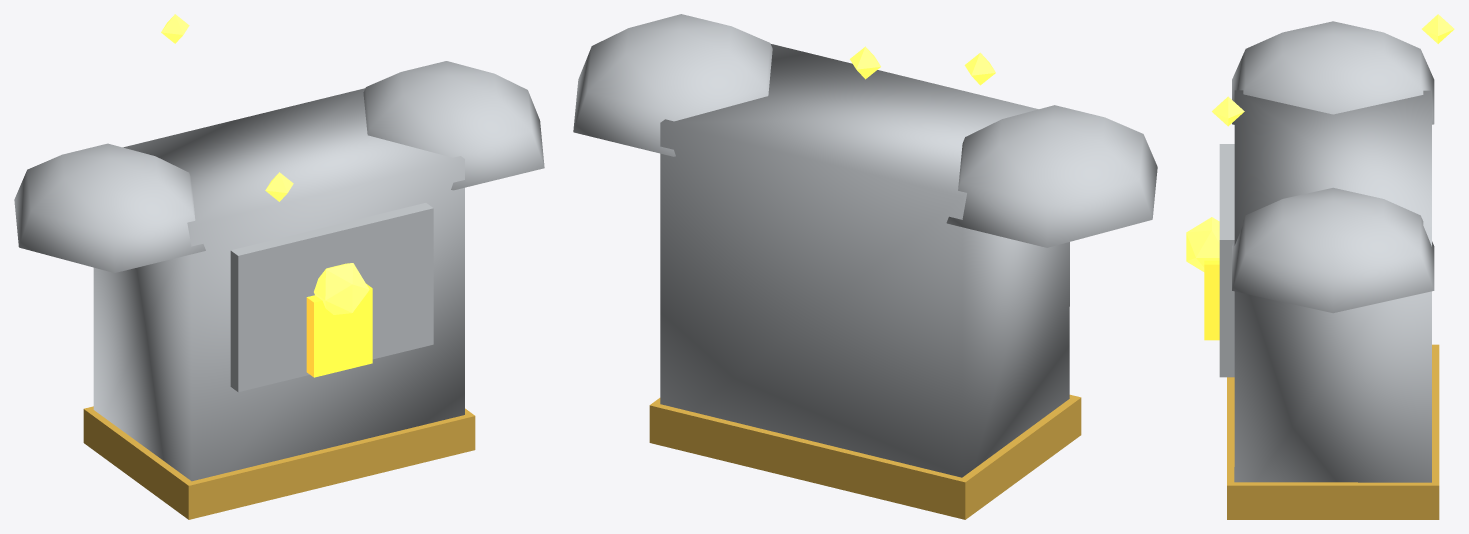
File: legend_armor_lantern.glb
3 renders of one model, left to right at view 1: azimuth 30°, elevation 25°; view 2: azimuth 150°, elevation 25°; view 3: azimuth 270°, elevation 25°, orthographic. The views are drawn at different scales.
Parts seen in each view (by area): view 1: item_metal3, item_trim3, item_legendGlow, item_gem3, item_legendSpark; view 2: item_metal3, item_trim3, item_legendSpark; view 3: item_metal3, item_trim3, item_gem3, item_legendGlow, item_legendSpark.
Part boxes in pixels (x1,y1,x2,y2): item_metal3: (14, 61, 544, 481); item_trim3: (83, 406, 475, 519); item_legendGlow: (306, 283, 372, 377); item_gem3: (314, 263, 369, 314); item_legendSpark: (161, 14, 293, 201); item_metal3: (573, 14, 1157, 477); item_trim3: (649, 394, 1081, 519); item_legendSpark: (850, 46, 995, 85); item_metal3: (1219, 21, 1434, 482); item_trim3: (1227, 344, 1439, 519); item_gem3: (1186, 217, 1219, 271); item_legendGlow: (1204, 260, 1219, 340); item_legendSpark: (1212, 14, 1454, 126).
Size of the model in its own units: 0.8 by 0.597 by 0.3546.
